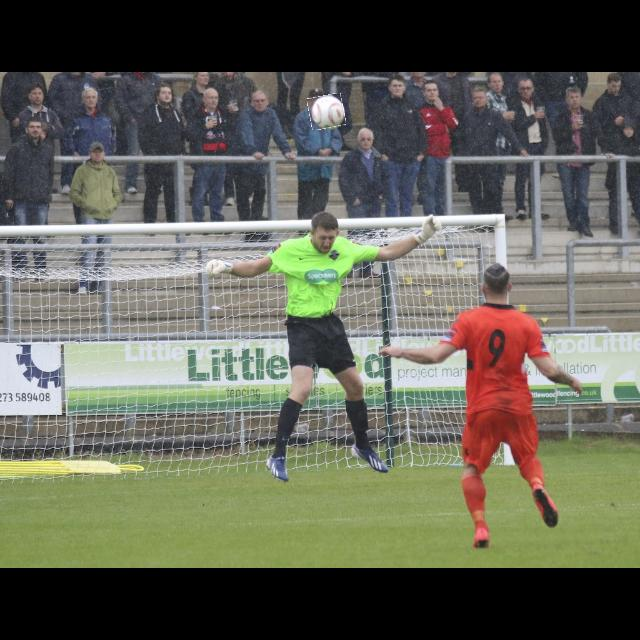Football: (309, 94, 345, 130)
